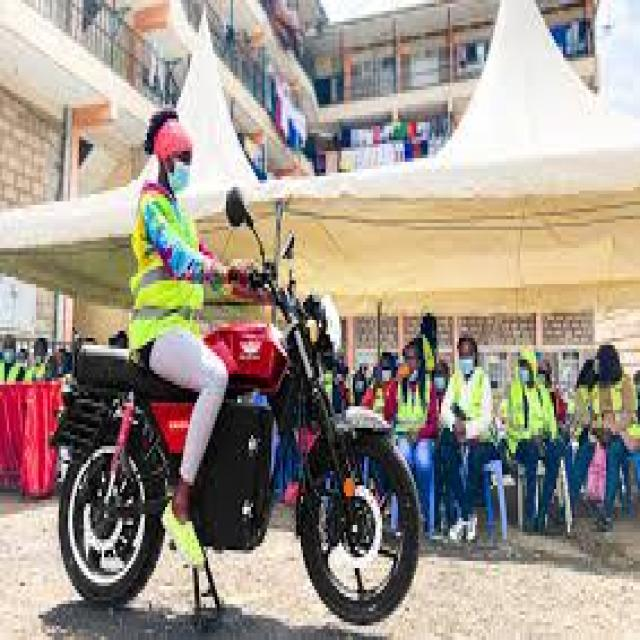bodaboda: (29, 168, 434, 628)
